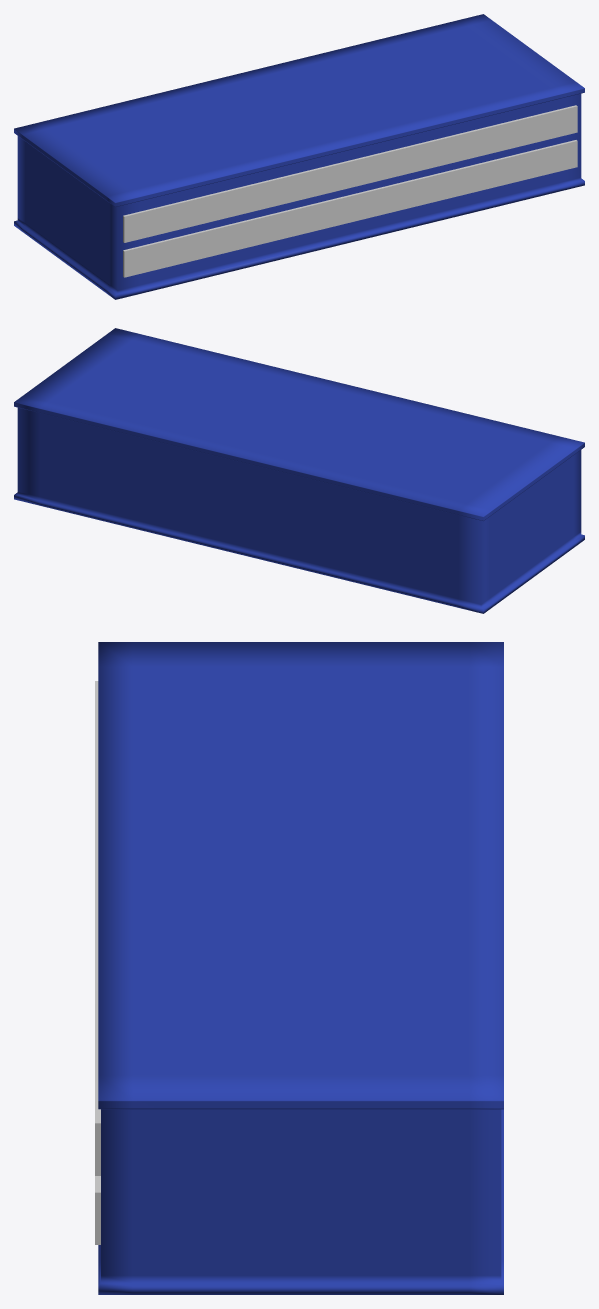
The model's file is KS_Living_Table.fbx.
The picture shows the model from 3 angles, top to bottom: view 1: azimuth 30°, elevation 25°; view 2: azimuth 150°, elevation 25°; view 3: azimuth 270°, elevation 25°; orthographic projection. The views are drawn at different scales.
Visible parts, largest first — view 1: KS_Living_Table; view 2: KS_Living_Table; view 3: KS_Living_Table.
Boxes of the visible parts, x1,y1,x2,y2 form: KS_Living_Table: (14,14,584,299); KS_Living_Table: (14,328,584,613); KS_Living_Table: (95,642,503,1294).
Bounding box in the file's own units: 418 × 82.67 × 158.
